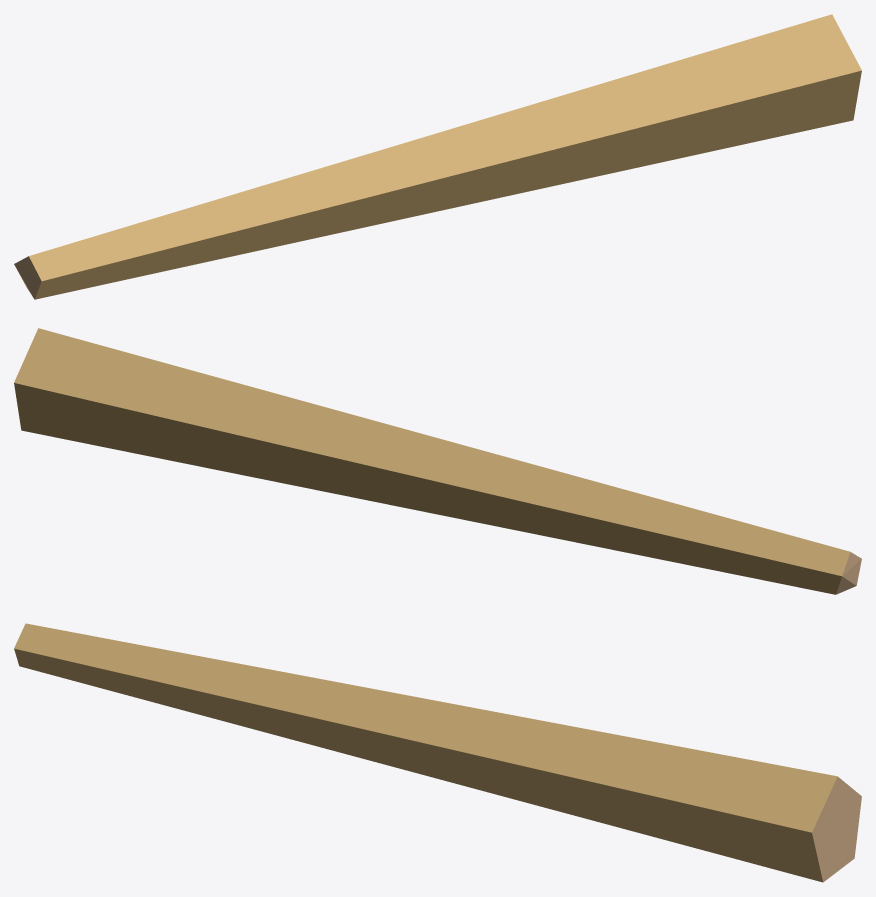
The model's file is Simple_Log_01.fbx.
3 views of the same model, one above another, from view 1: azimuth 30°, elevation 25°; view 2: azimuth 150°, elevation 25°; view 3: azimuth 330°, elevation 25° (orthographic).
Parts seen in each view (by area): view 1: Simple_Log_01; view 2: Simple_Log_01; view 3: Simple_Log_01.
Boxes of the visible parts, x1,y1,x2,y2 form: Simple_Log_01: [14, 14, 861, 299]; Simple_Log_01: [14, 328, 861, 594]; Simple_Log_01: [14, 623, 861, 882].
Bounding box in the file's own units: 259 × 28.36 × 28.56.
